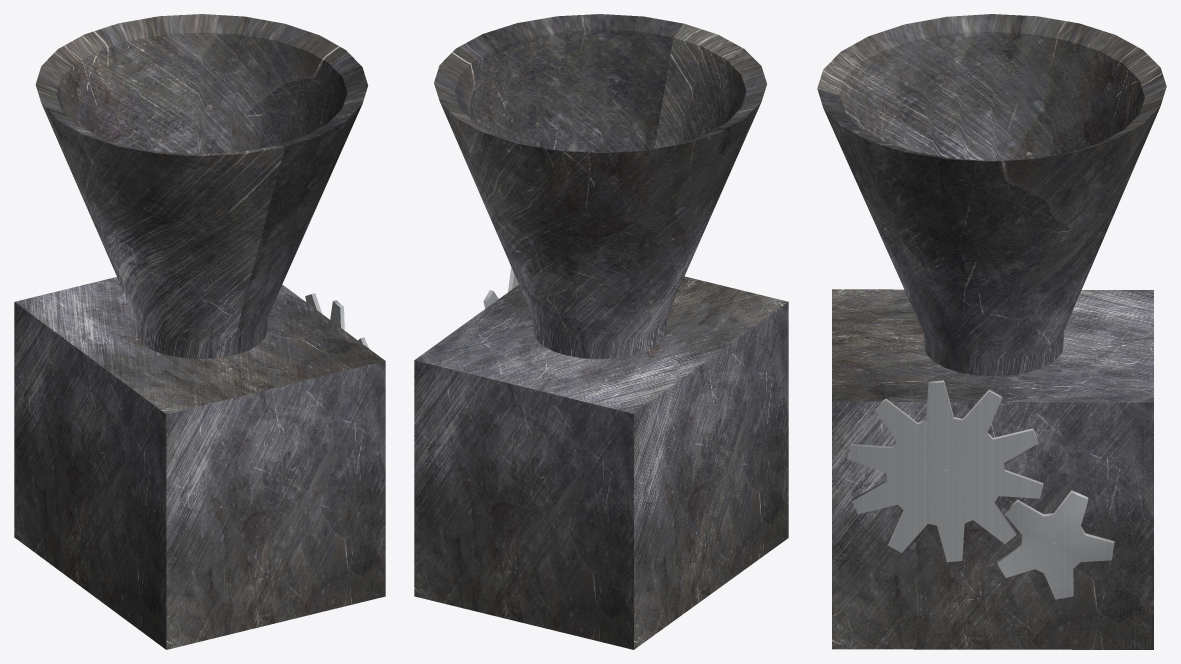
File: loader_new.FBX
3 views of the same model, side by side, from view 1: azimuth 30°, elevation 25°; view 2: azimuth 150°, elevation 25°; view 3: azimuth 270°, elevation 25° (orthographic). The views are drawn at different scales.
Parts seen in each view (by area): view 1: Box, funnel, Big Cog; view 2: Box, funnel; view 3: funnel, Box, Big Cog, Small Cog.
Boxes of the visible parts, left/top/right/bottom form: Box: left=14, top=277, right=385, bottom=649; funnel: left=35, top=14, right=368, bottom=358; Big Cog: left=305, top=293, right=368, bottom=348; Box: left=414, top=276, right=788, bottom=649; funnel: left=434, top=14, right=766, bottom=359; funnel: left=817, top=14, right=1166, bottom=376; Box: left=832, top=289, right=1153, bottom=649; Big Cog: left=847, top=380, right=1043, bottom=562; Small Cog: left=997, top=490, right=1114, bottom=599.
Size of the model in its own units: 35.44 by 56.76 by 35.44.
Materials: 2 (2 with a texture image).
